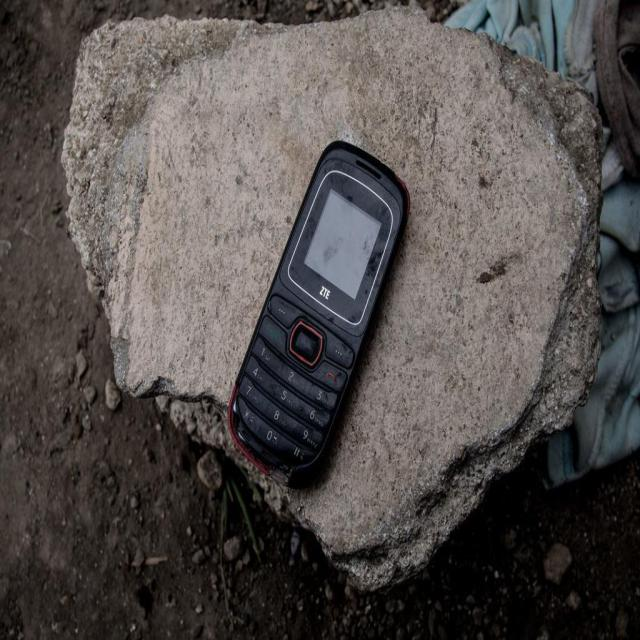Phone: (221, 137, 421, 488)
